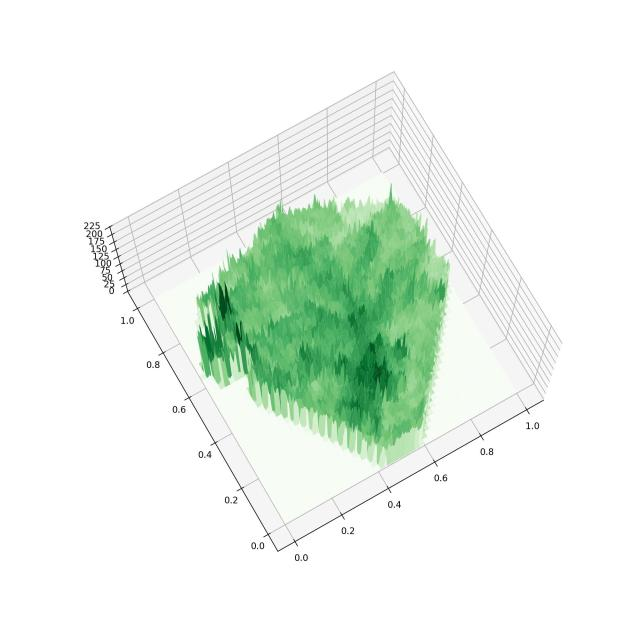spruce: (63, 45, 576, 588)
